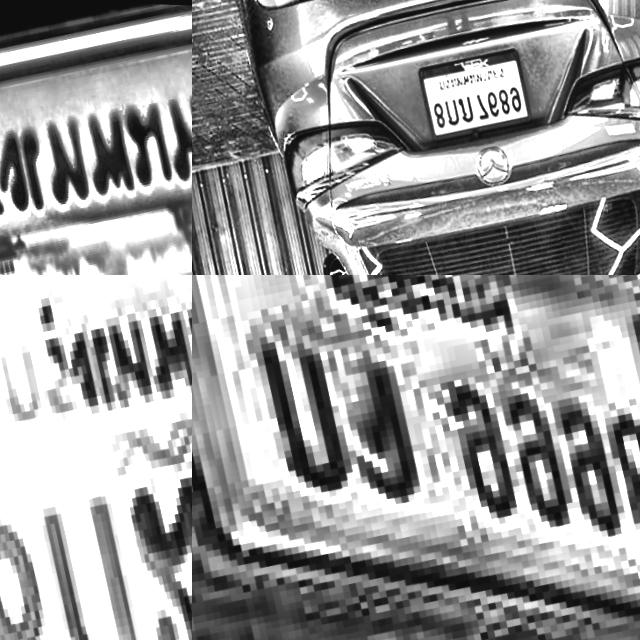license-plate: (192, 275, 640, 640), (0, 275, 192, 640), (0, 0, 192, 275), (411, 30, 541, 157)
